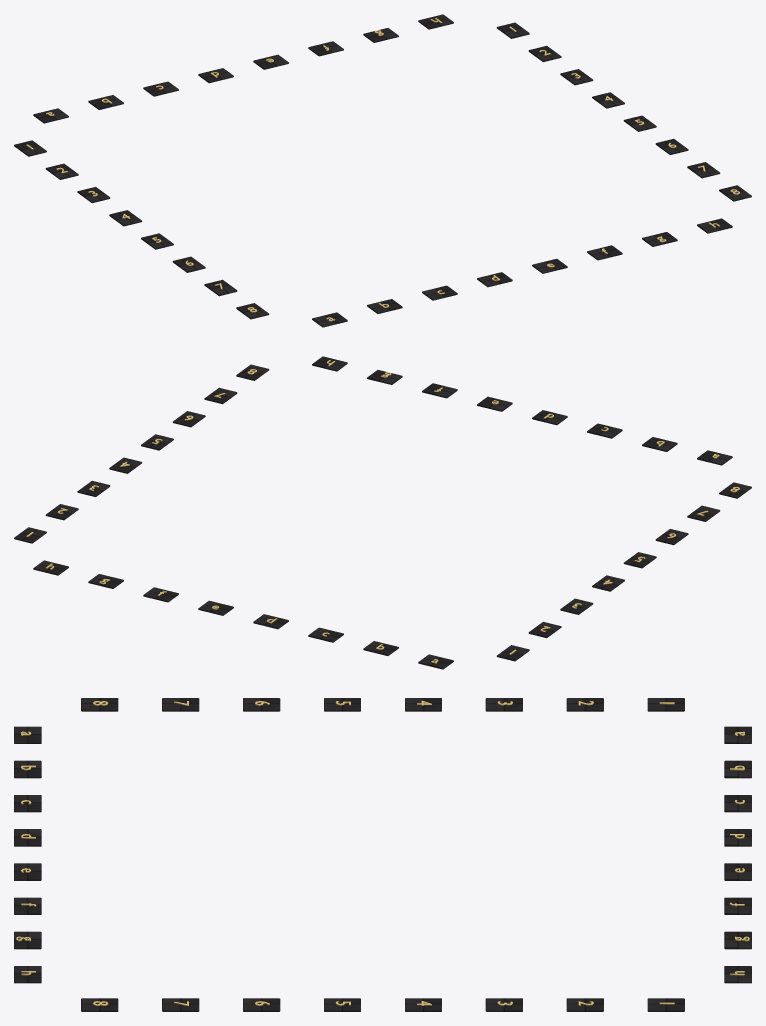
The model's file is board_plaques.glb.
3 views of the same model, one above another, from view 1: azimuth 30°, elevation 25°; view 2: azimuth 150°, elevation 25°; view 3: azimuth 270°, elevation 25° (orthographic). The views are drawn at different scales.
Bounding box in the file's own units: 9.12 × 0.042 × 9.12.
2 materials, 1 textured.
